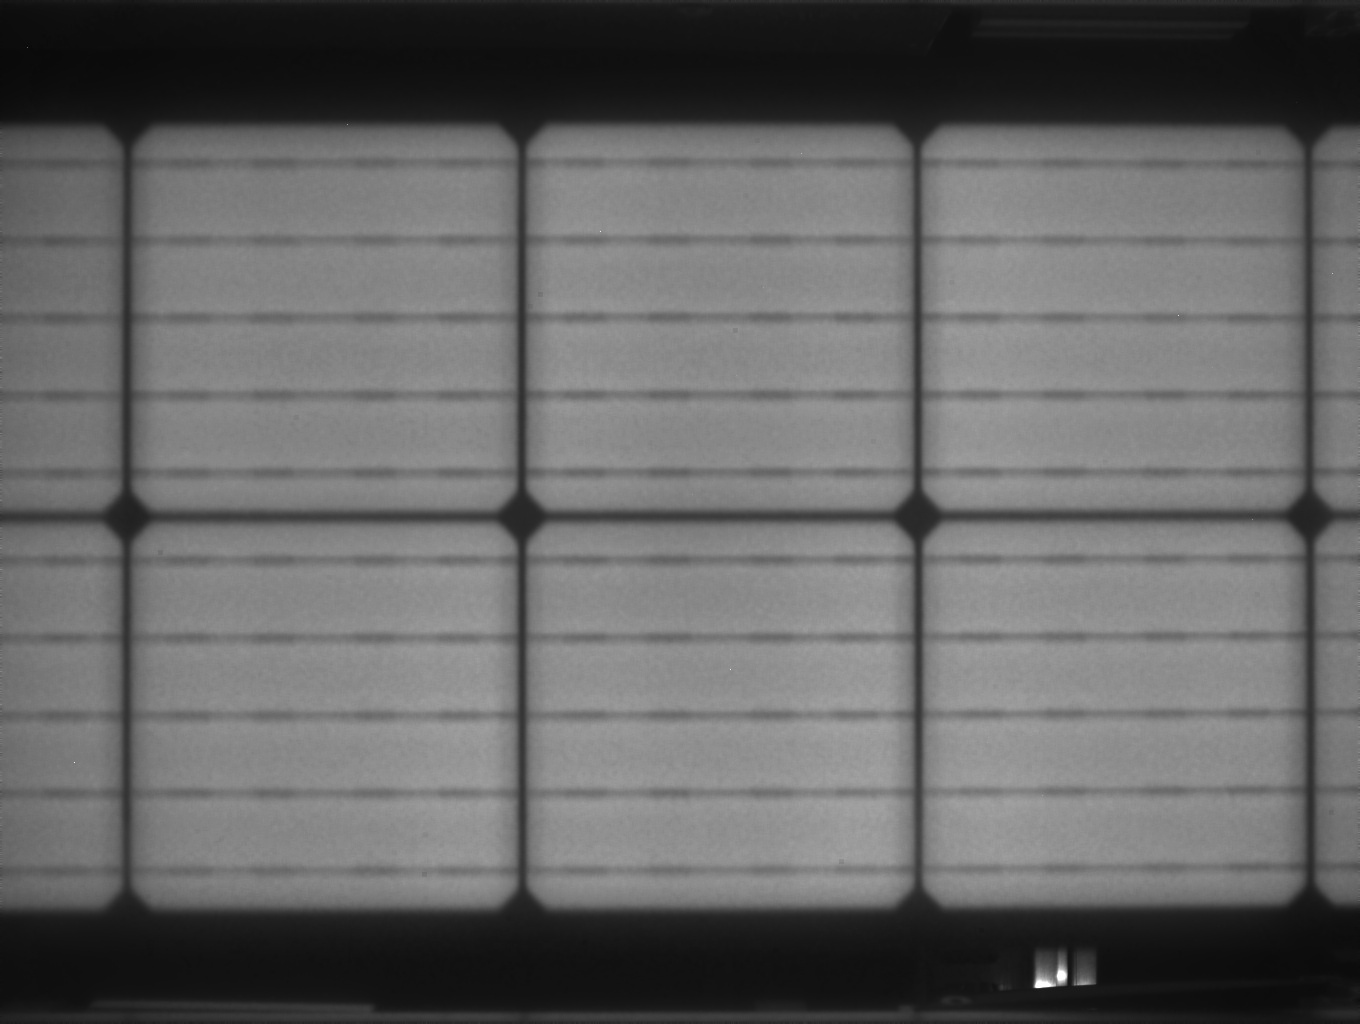loc: (128, 123, 241, 234), (128, 914, 203, 979), (1308, 124, 1352, 194), (1312, 908, 1347, 965)
